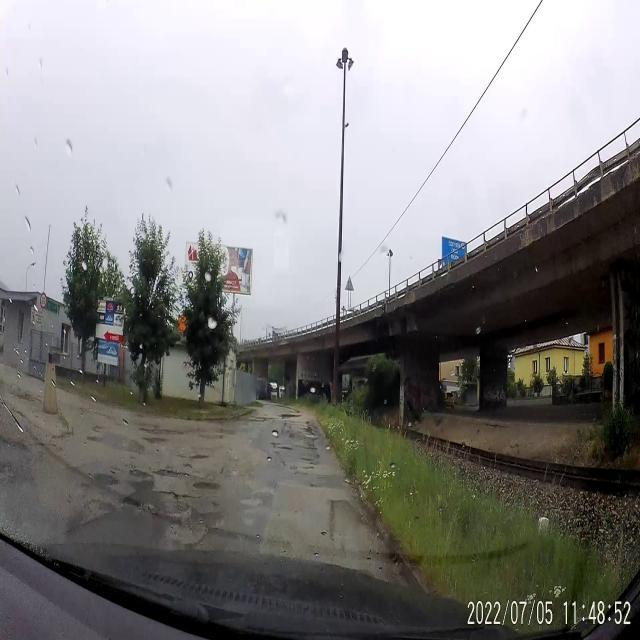Manhole: (157, 494, 190, 520), (90, 469, 122, 494), (194, 474, 224, 498)
Pothole: (136, 424, 189, 434), (155, 466, 191, 479), (130, 465, 154, 483), (140, 435, 169, 447), (188, 450, 211, 461), (298, 456, 320, 466), (298, 442, 318, 452), (277, 444, 294, 454)
